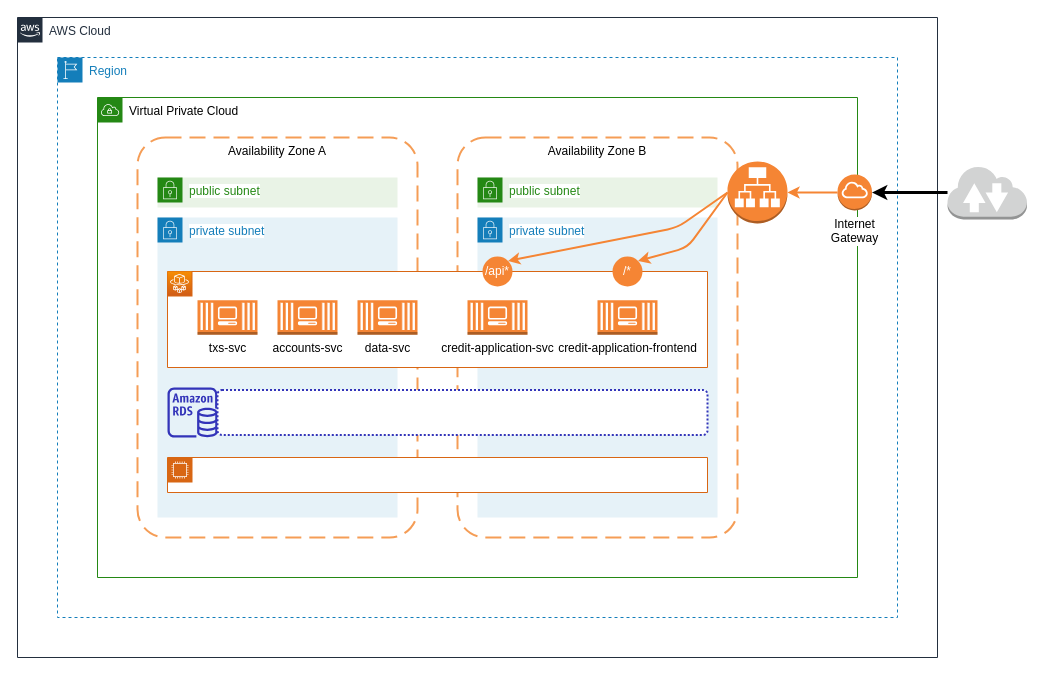
The diagram is 1045 pixels wide and 675 high, and some of its shapes have lost their labels. The shapes that lost their labels are listed below. From the top down, each one's box as (x1, y1, x2, y2) in pixels, then its label:
(726, 160, 788, 224): Application Load Balancer
(946, 164, 1027, 220): public access
(166, 270, 708, 368): core-banking-fargate-cluster
(216, 388, 708, 436): domain database legacy databases
(166, 456, 708, 492): legacy databases (self-managed)
